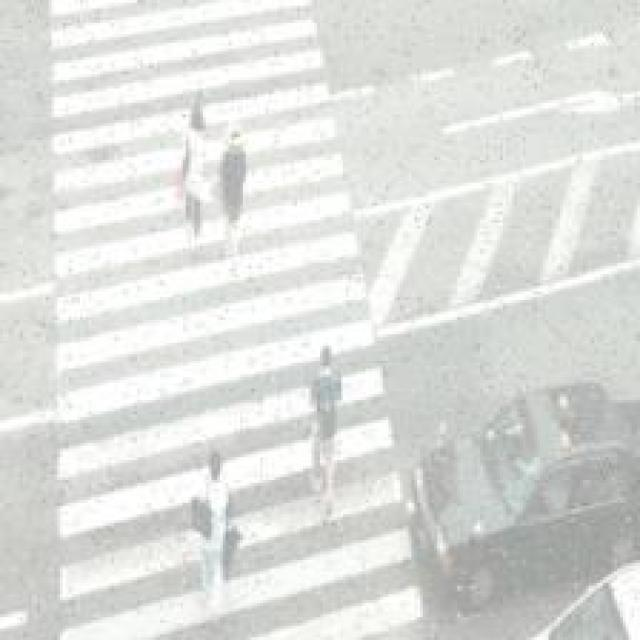crosswalk: (49, 0, 422, 640)
